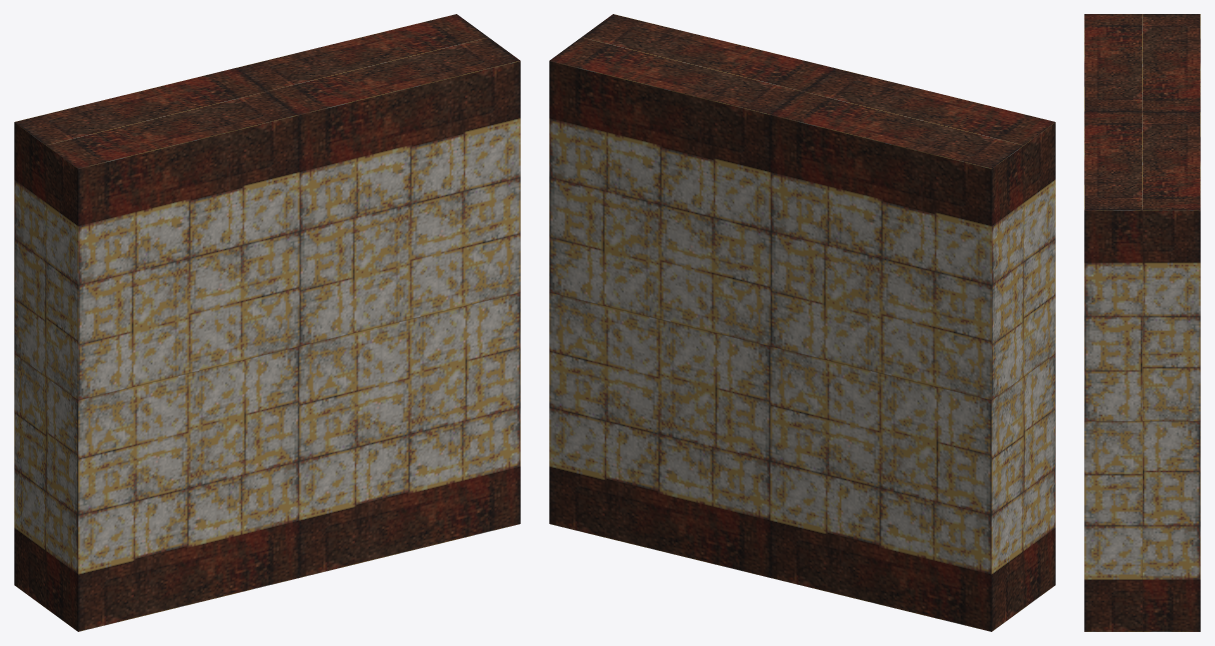
The picture shows the model from 3 angles, left to right: view 1: azimuth 30°, elevation 25°; view 2: azimuth 150°, elevation 25°; view 3: azimuth 270°, elevation 25°; orthographic projection. The views are drawn at different scales.
Visible parts, largest first — view 1: Cube (×2); view 2: Cube (×2); view 3: Cube (×2).
Part boxes in pixels (<box>): Cube (×2): <box>14,14,520,631</box>; Cube (×2): <box>549,14,1055,631</box>; Cube (×2): <box>1084,14,1200,631</box>.
Size of the model in its own units: 4 by 4 by 1.
1 material, 1 textured.
